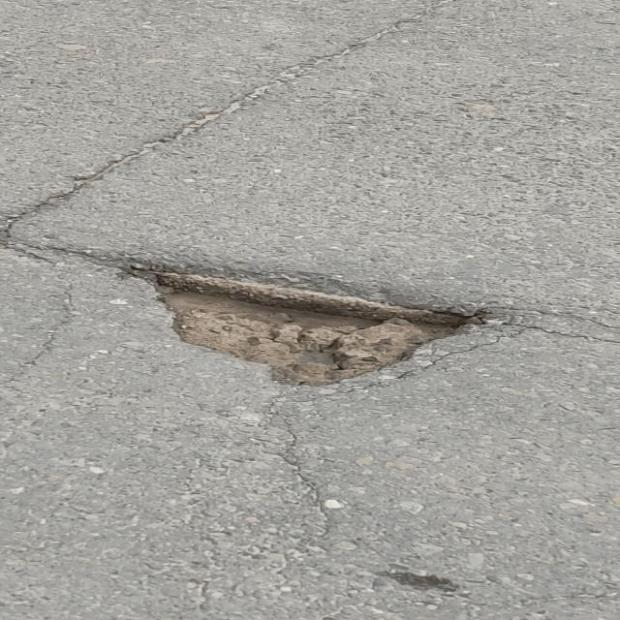lubang: (132, 264, 472, 384)
